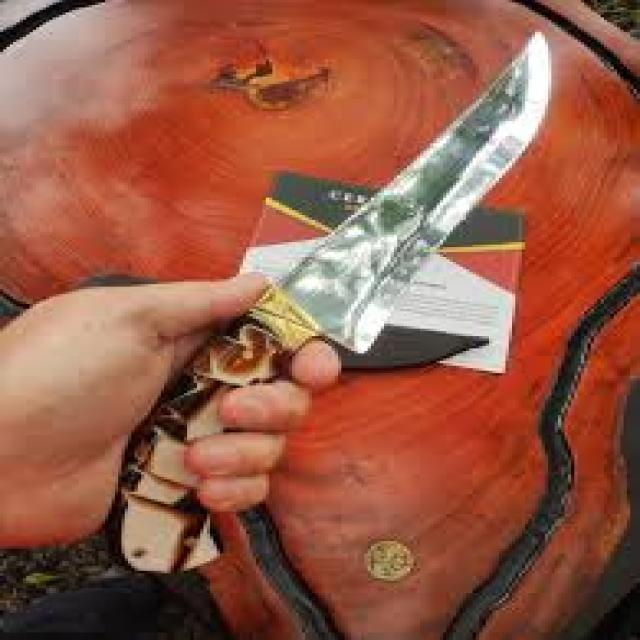knife: (276, 35, 551, 371)
